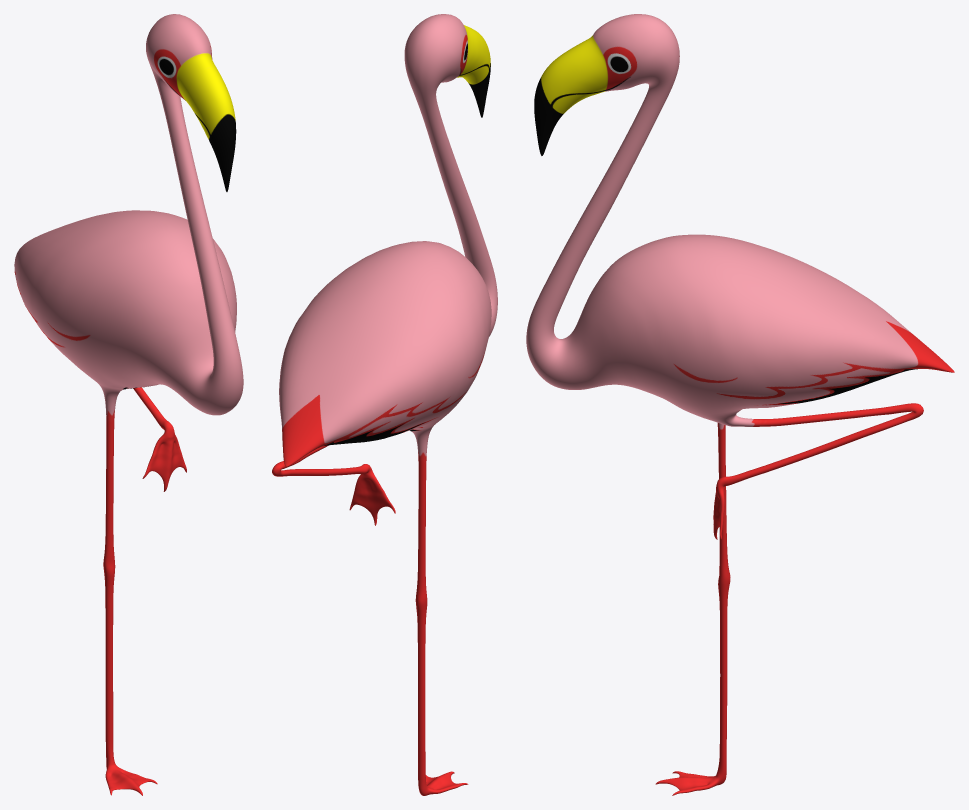
Rendered from flamingo.glb.
3 views of the same model, side by side, from view 1: azimuth 30°, elevation 25°; view 2: azimuth 150°, elevation 25°; view 3: azimuth 270°, elevation 25° (orthographic). The views are drawn at different scales.
Parts seen in each view (by area): view 1: node_id5; view 2: node_id5; view 3: node_id5.
Boxes of the visible parts, left/top/right/bottom form: node_id5: left=14, top=14, right=243, bottom=795; node_id5: left=272, top=14, right=497, bottom=795; node_id5: left=526, top=14, right=954, bottom=795.
Bounding box in the file's own units: 0.1159 × 0.512 × 0.2541.
1 material, 1 textured.
